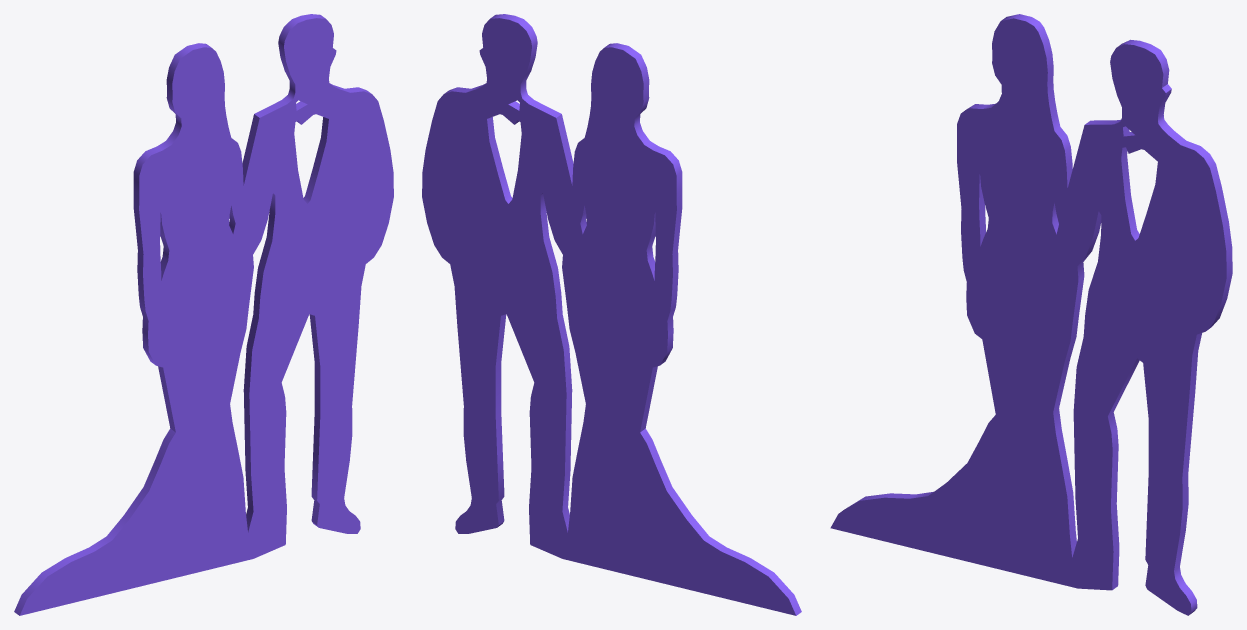
The model's file is Cake_ThemeWedding_F.FBX.
3 views of the same model, side by side, from view 1: azimuth 30°, elevation 25°; view 2: azimuth 150°, elevation 25°; view 3: azimuth 330°, elevation 25° (orthographic). The views are drawn at different scales.
Parts seen in each view (by area): view 1: Cake_ThemeWedding_F; view 2: Cake_ThemeWedding_F; view 3: Cake_ThemeWedding_F.
Boxes of the visible parts, x1,y1,x2,y2 form: Cake_ThemeWedding_F: (14,14,393,615); Cake_ThemeWedding_F: (422,14,801,615); Cake_ThemeWedding_F: (830,14,1232,615).
Bounding box in the file's own units: 64135 × 86223 × 1666.
